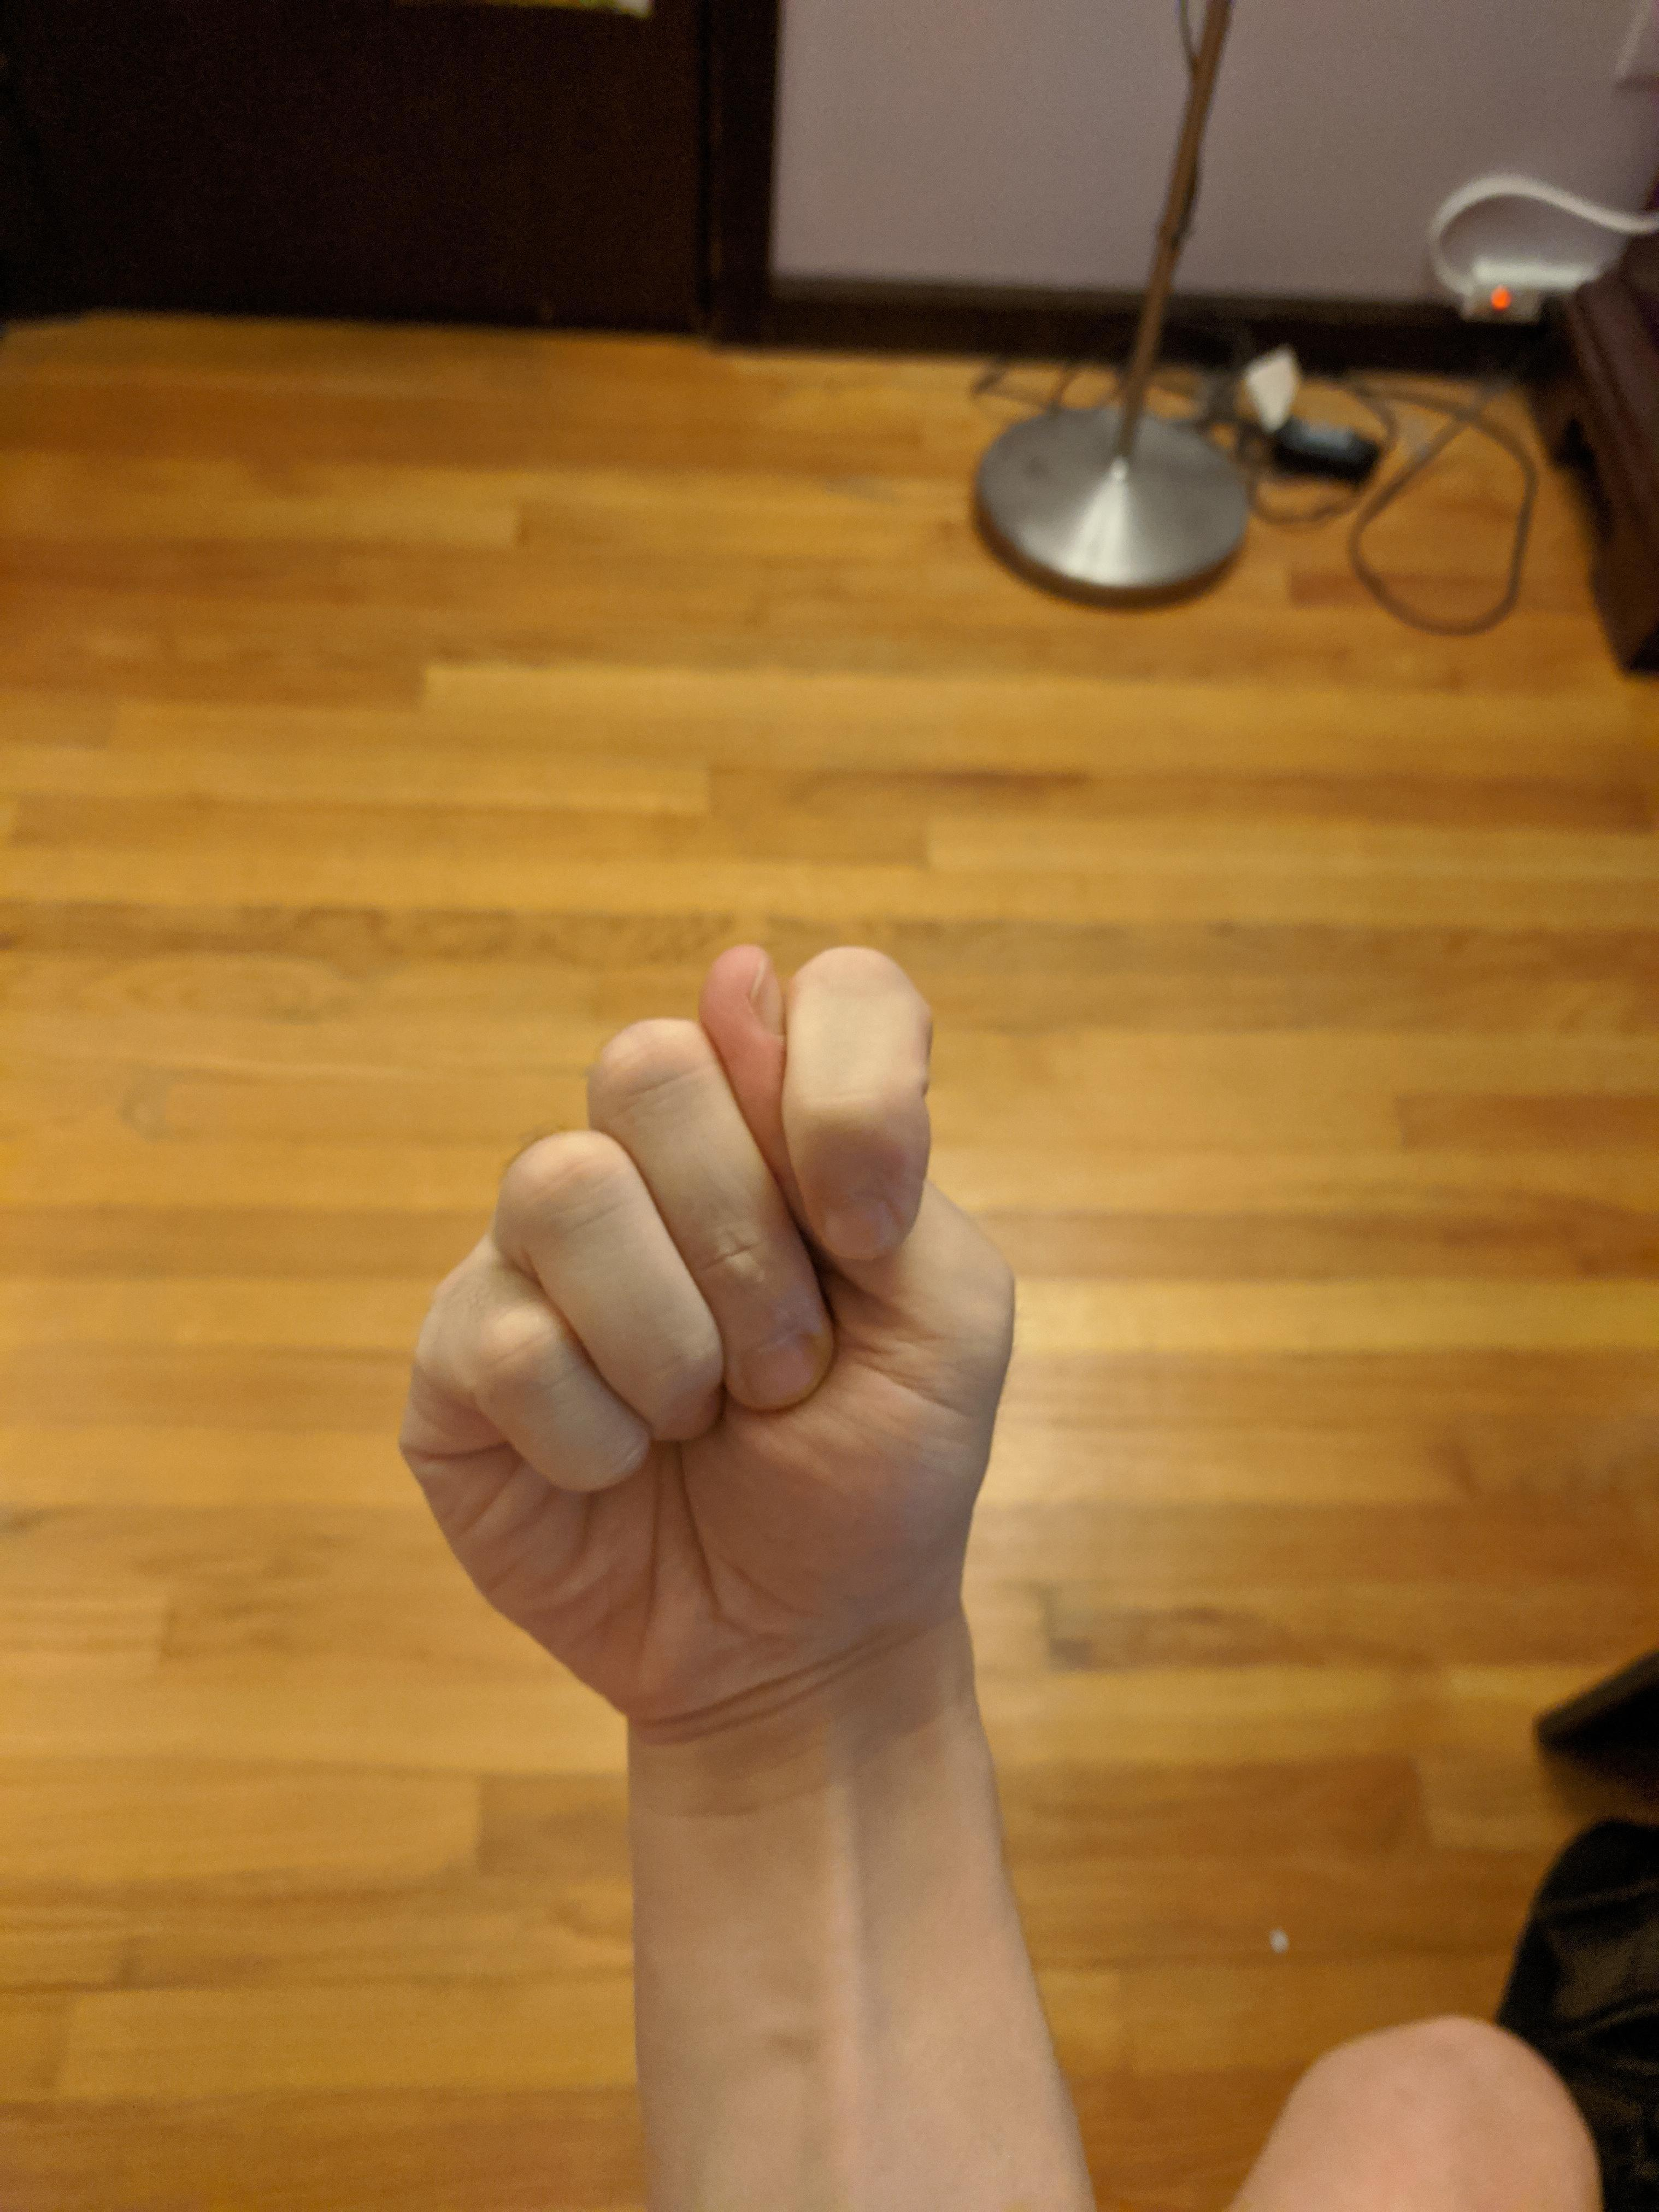T: (375, 918, 1040, 1756)
